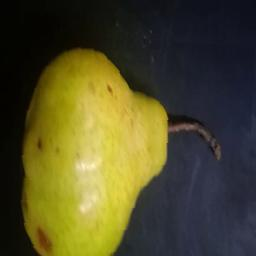Pear Semifresh: (21, 30, 256, 256)
